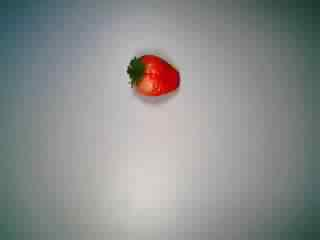strawberry: (116, 43, 184, 107)
